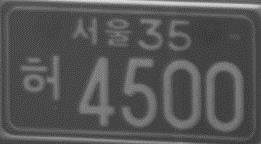0: (203, 58, 245, 134), (161, 59, 204, 131)
3: (136, 16, 163, 51)
4: (75, 55, 117, 127)
5: (120, 56, 158, 128), (167, 17, 193, 54)
서울_O: (72, 16, 133, 50)
허: (19, 51, 61, 102)
